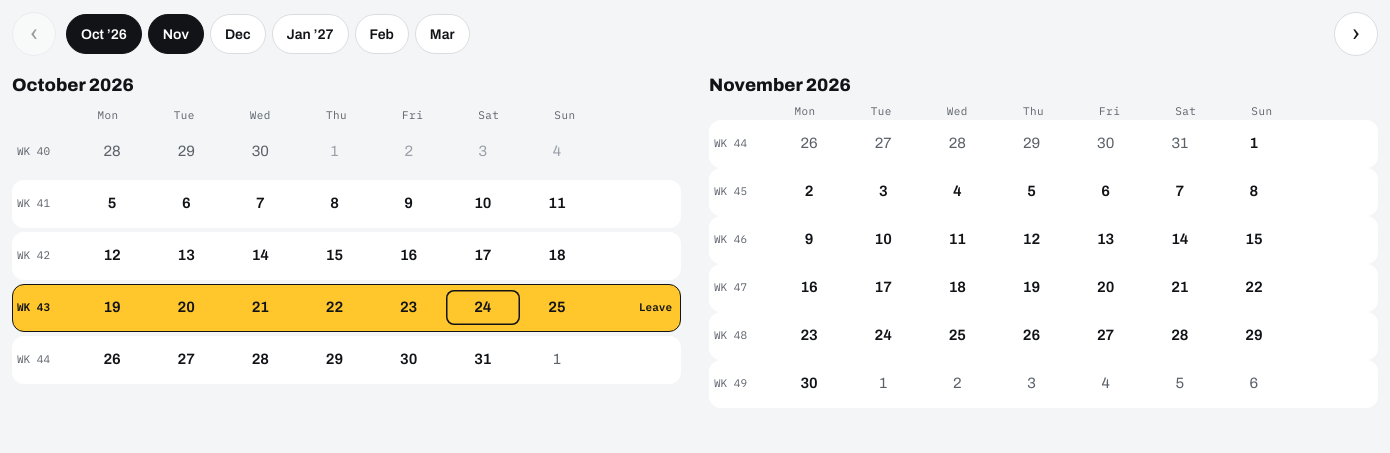
Test case: picking weeks › a return can be at most 12 weeks after the leave week
This screenshot has width=1390, height=453.
Click the button named "Next month" at (1356, 34), box [1334,12,1378,56]
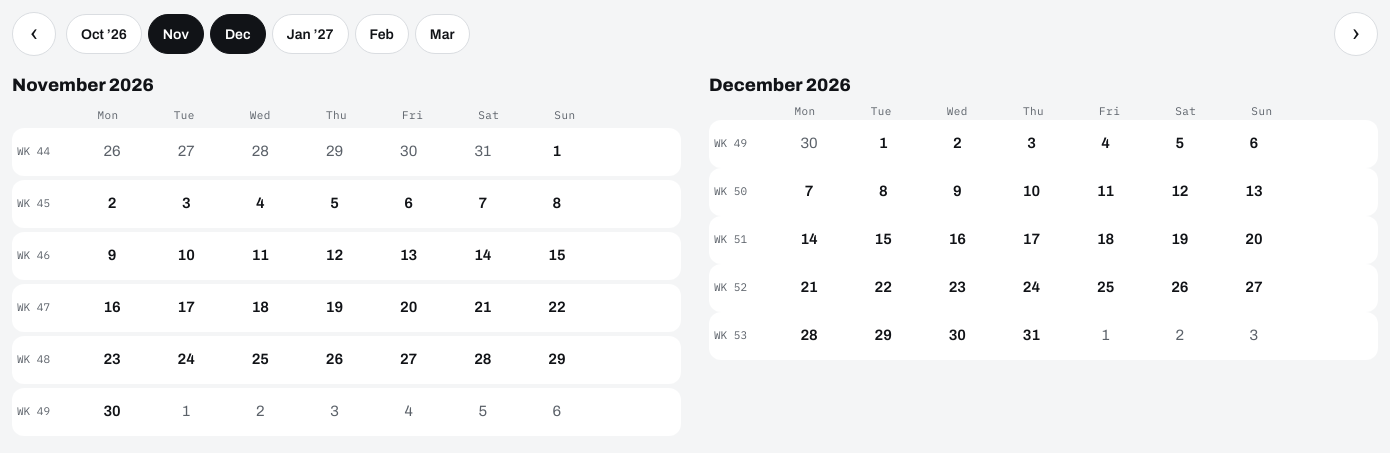
Click the button with aria-label "January 2027" at (310, 34), box [272,14,349,54]
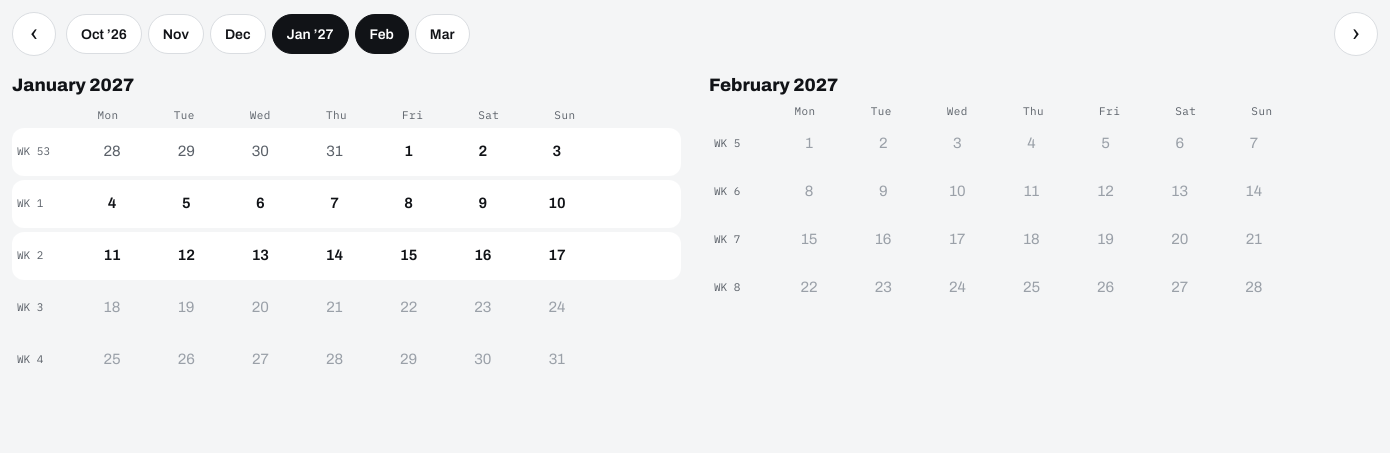
Now the button with aria-label "Week 2, Mon Jan 11 to Sun Jan 17" is enabled, box [12,232,681,280]
Now the button with aria-label "Week 3, Mon Jan 18 to Sun Jan 24" is disabled, box [12,284,681,332]
